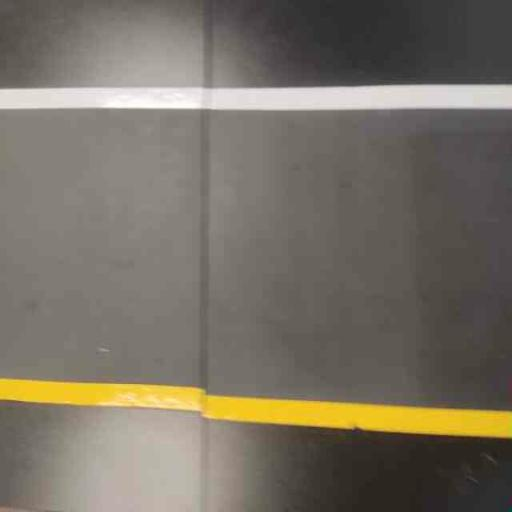straight: (3, 80, 511, 446)
